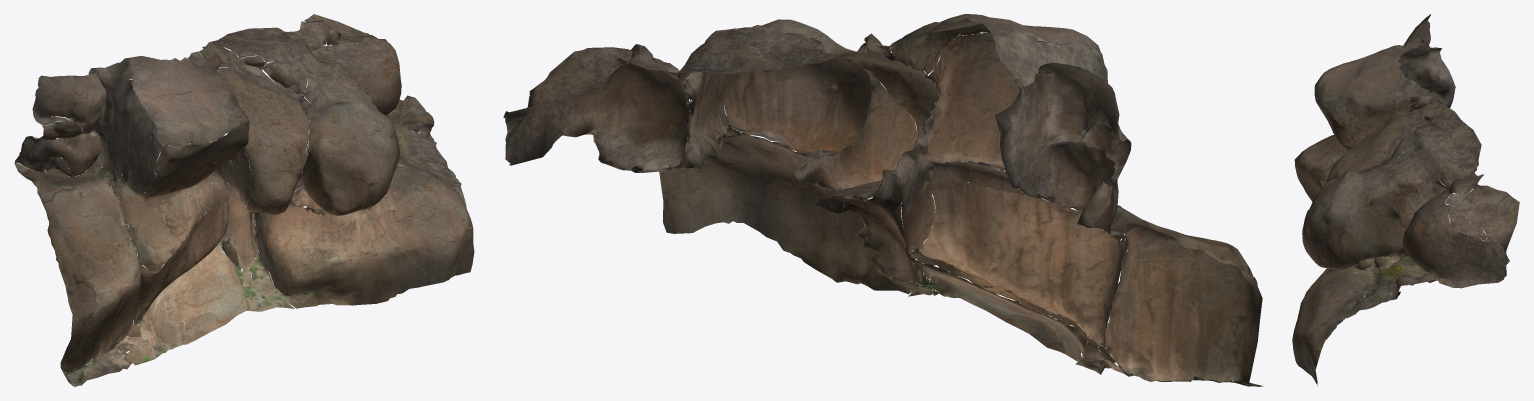
Rendered from namaqualand_cliff_01.glb.
3 views of the same model, side by side, from view 1: azimuth 30°, elevation 25°; view 2: azimuth 150°, elevation 25°; view 3: azimuth 270°, elevation 25° (orthographic). The views are drawn at different scales.
Visible parts, largest first — view 1: drone_rock_01; view 2: drone_rock_01; view 3: drone_rock_01.
Part boxes in pixels (left/top/right/bottom): drone_rock_01: left=14, top=14, right=474, bottom=386; drone_rock_01: left=503, top=14, right=1263, bottom=386; drone_rock_01: left=1292, top=14, right=1519, bottom=385.
Bounding box in the file's own units: 8.28 × 4.96 × 4.39.
1 material, 1 textured.
